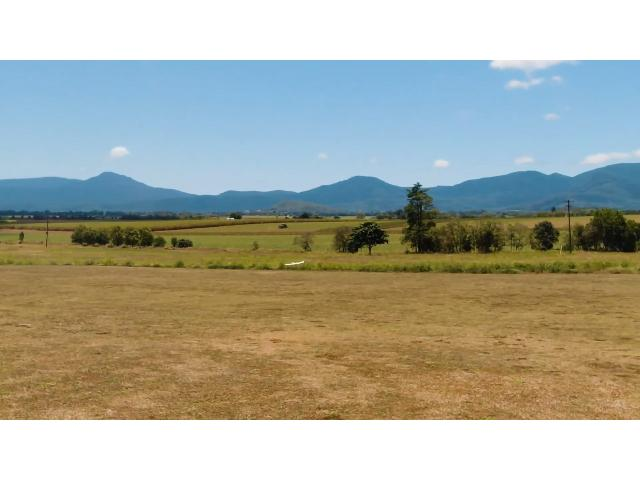Anti-Drone: (280, 254, 308, 281)
